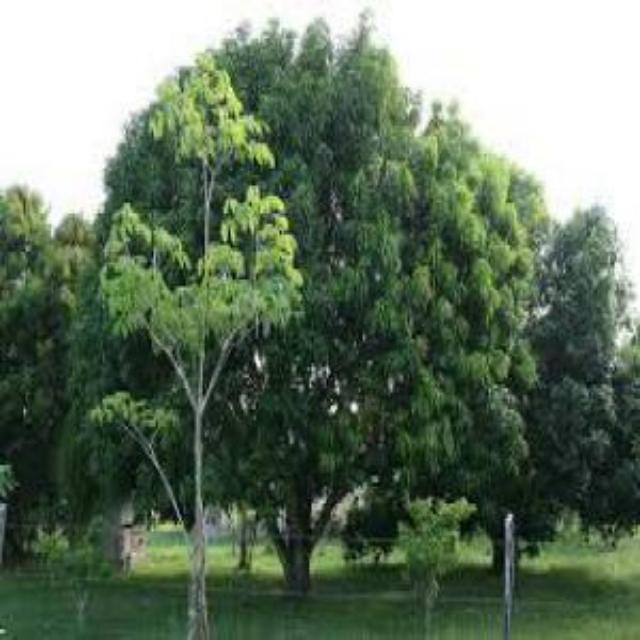tree: (123, 18, 524, 580), (99, 49, 303, 633)
